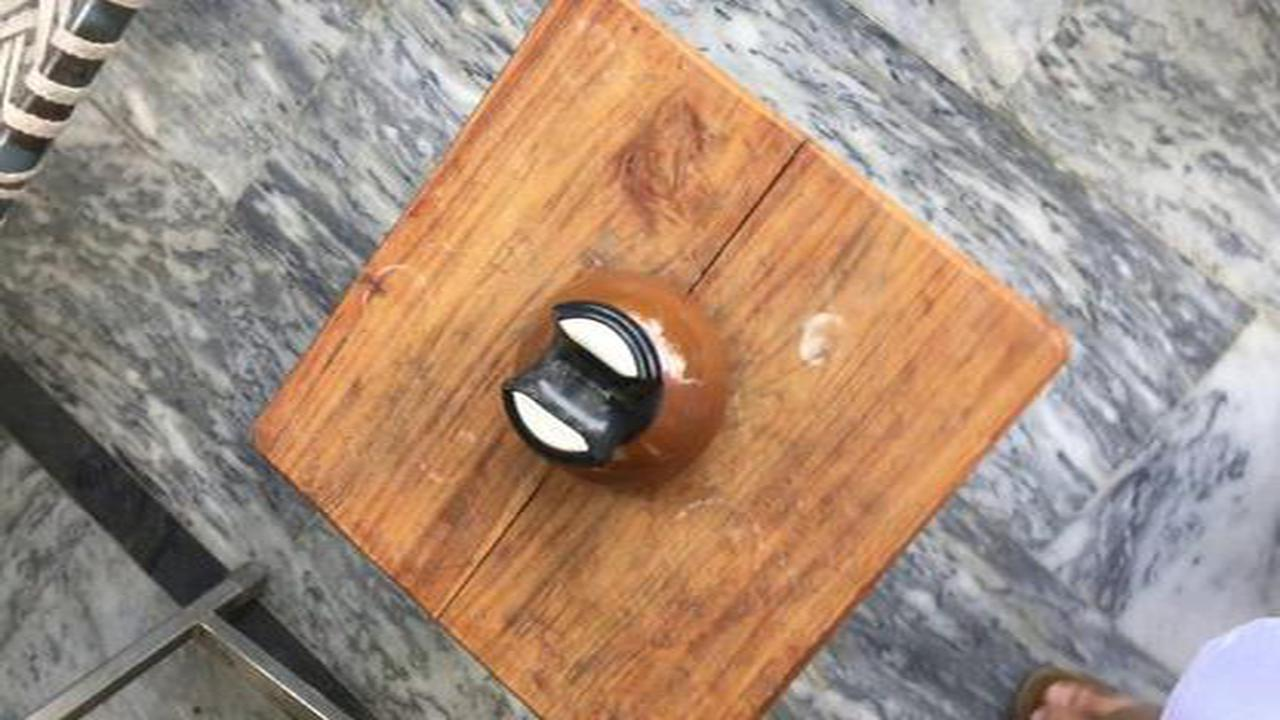insulator_pin: (459, 262, 767, 494)
